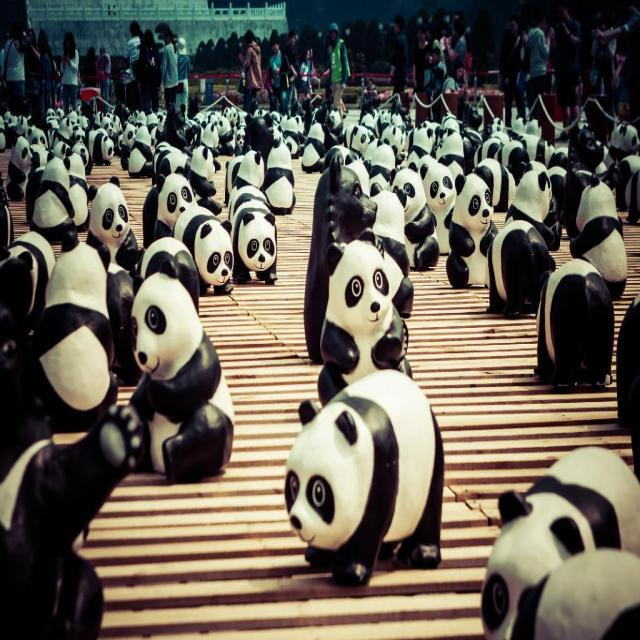panda: (0, 104, 640, 639), (281, 381, 411, 578)
